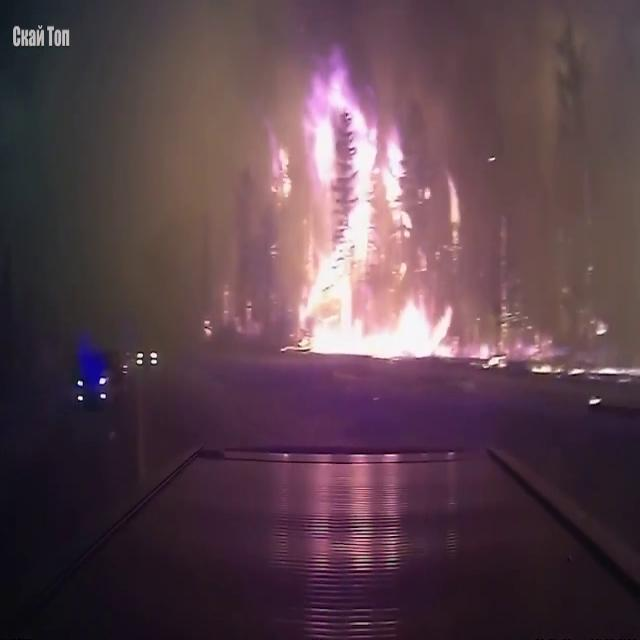Fire: (290, 68, 462, 360)
Smoke: (0, 1, 304, 327)
